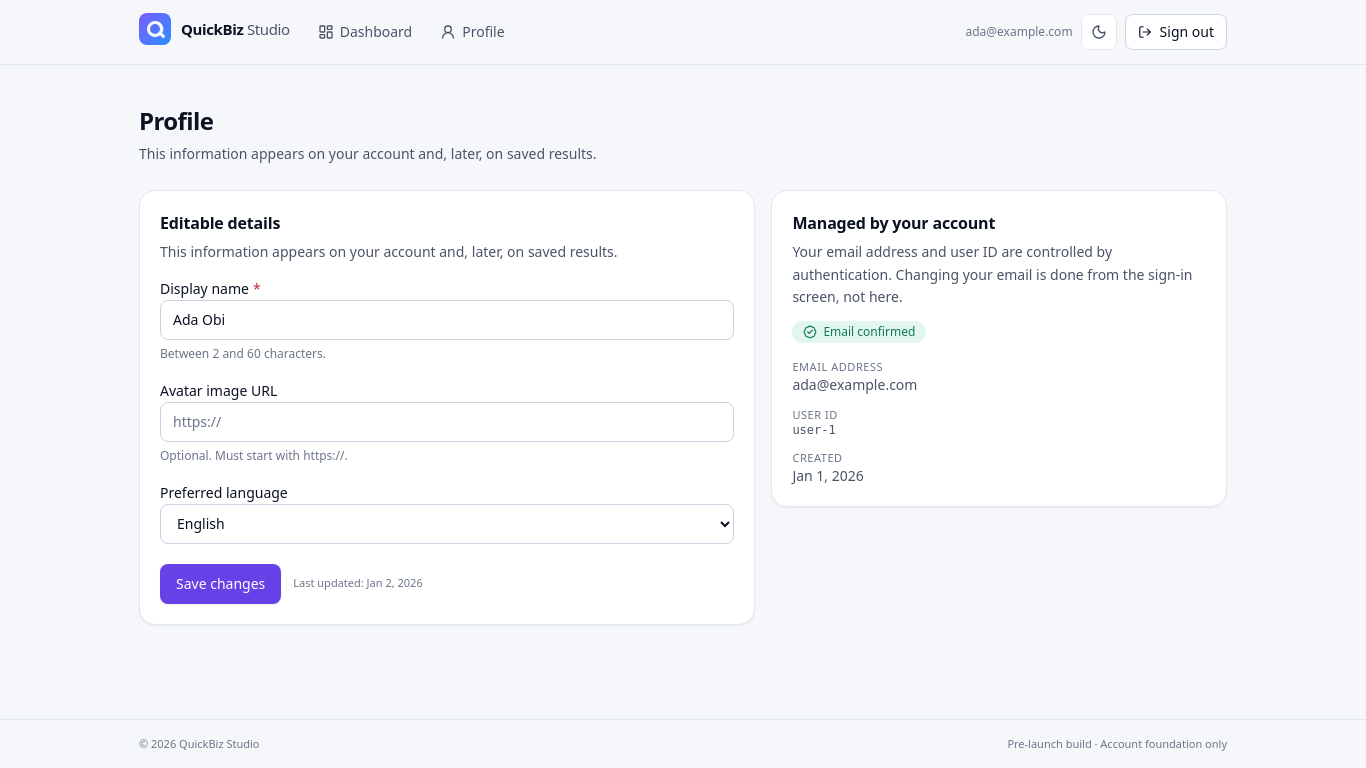
Scenario: ProfilePage › sends only the editable columns to the provider
Replace the text in the field showing "Ada Obi" with "Ada Nwosu" at (447, 320), box x1=160 y1=300 x2=734 y2=340
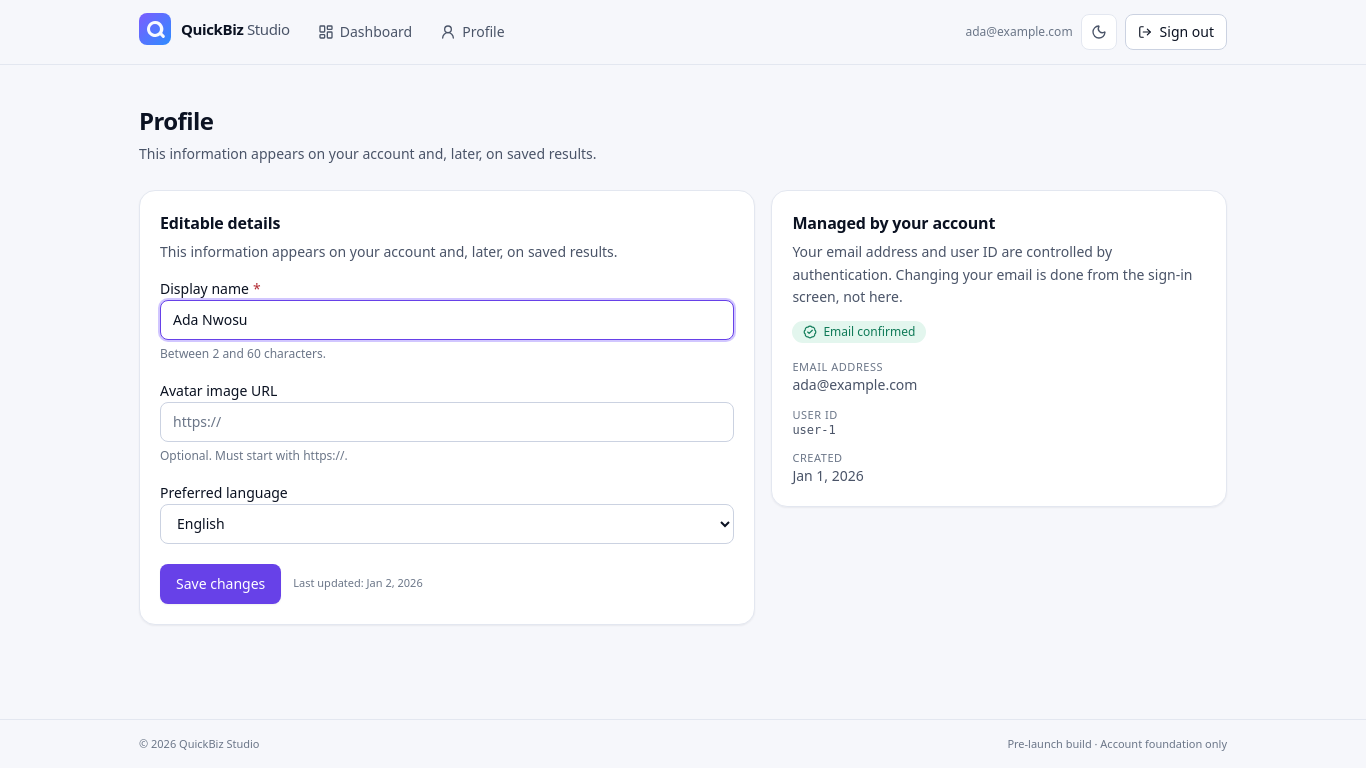
Type "https://example.com/ada.png" into the field labelled "Avatar image URL" at (447, 422), box x1=160 y1=402 x2=734 y2=442
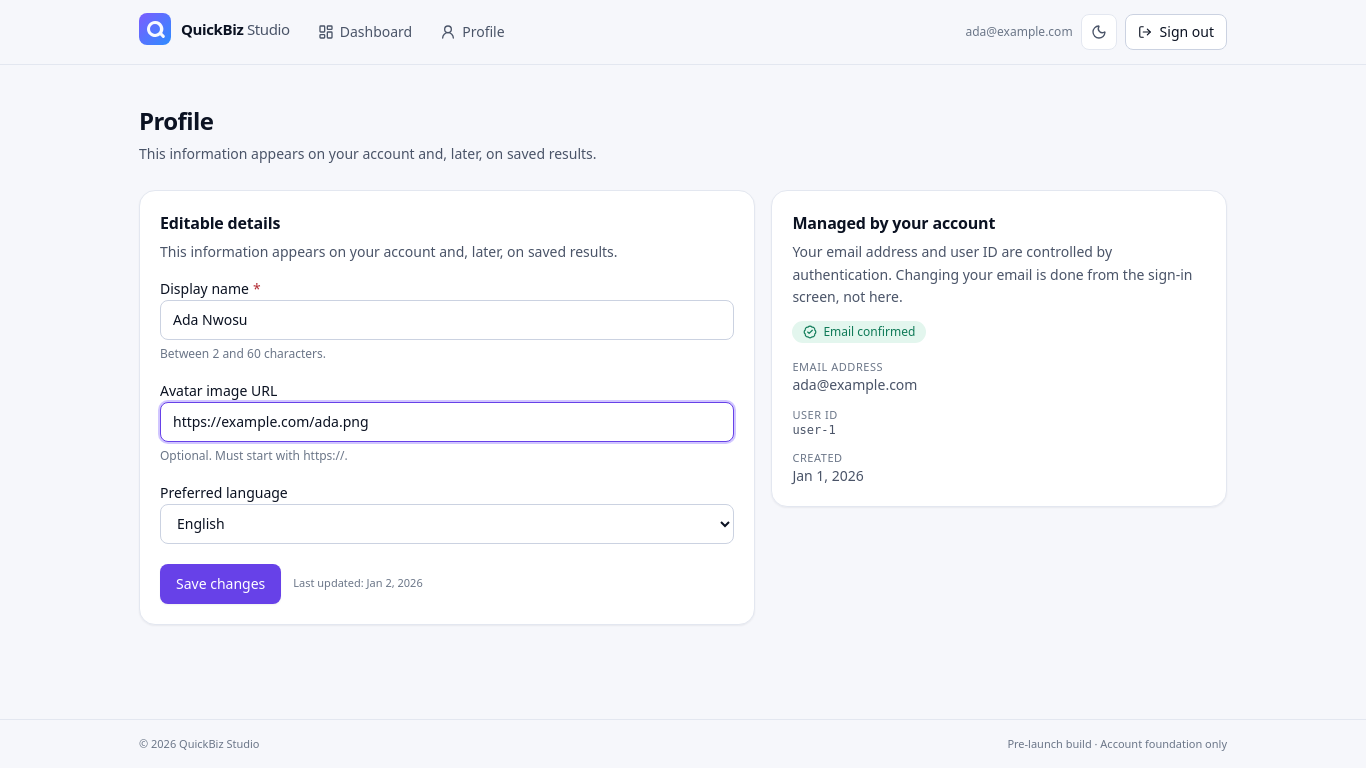
Click the button "Save changes" at (221, 584), box x1=160 y1=564 x2=281 y2=604
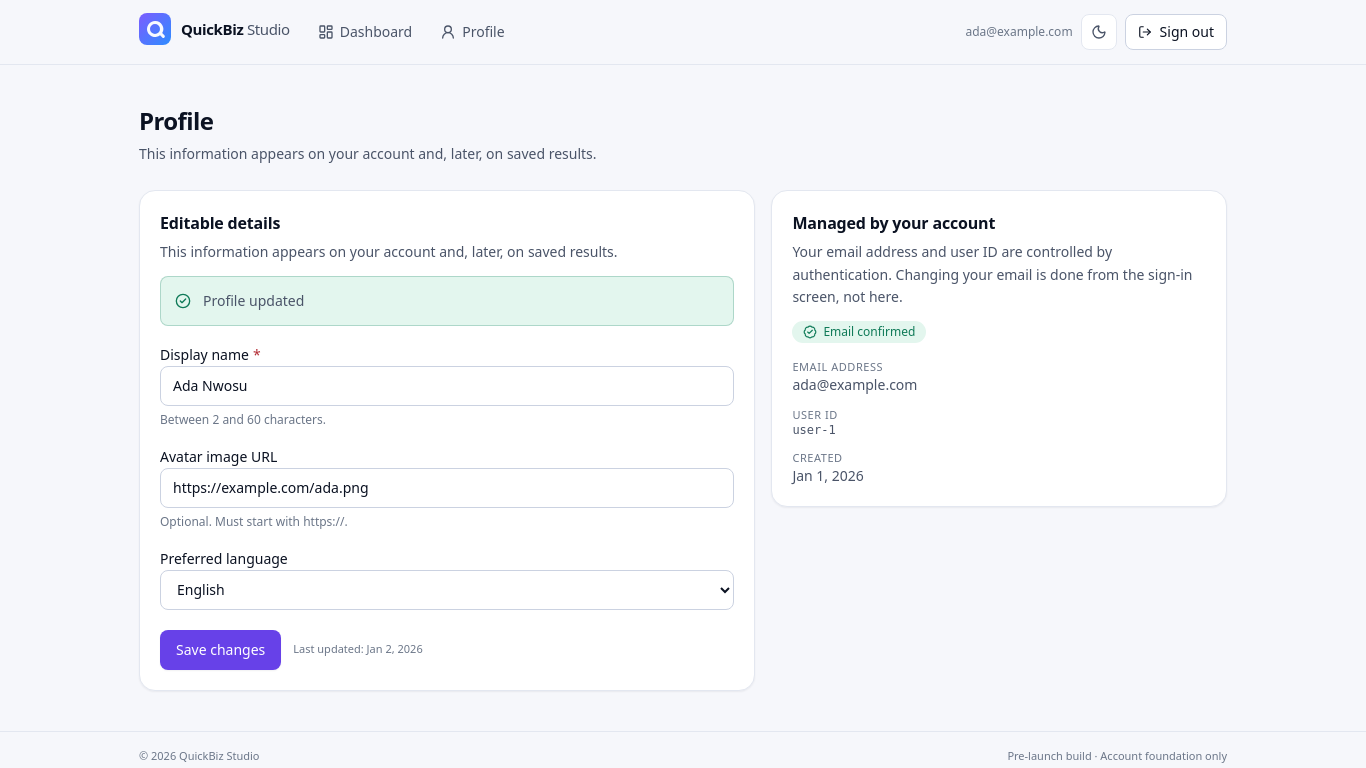
Expected: the text "user-1" is shown, x1=792 y1=423 x2=836 y2=437
Expected: the text "Profile updated" is shown, x1=203 y1=290 x2=304 y2=310
